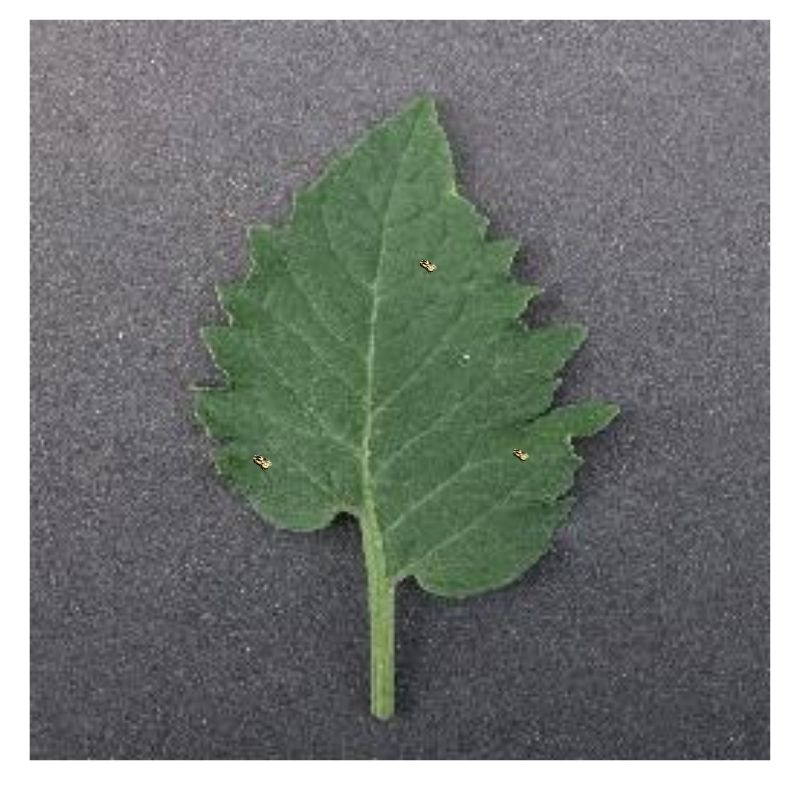liriomyza: (250, 452, 274, 471), (417, 256, 438, 274), (513, 446, 530, 462)
